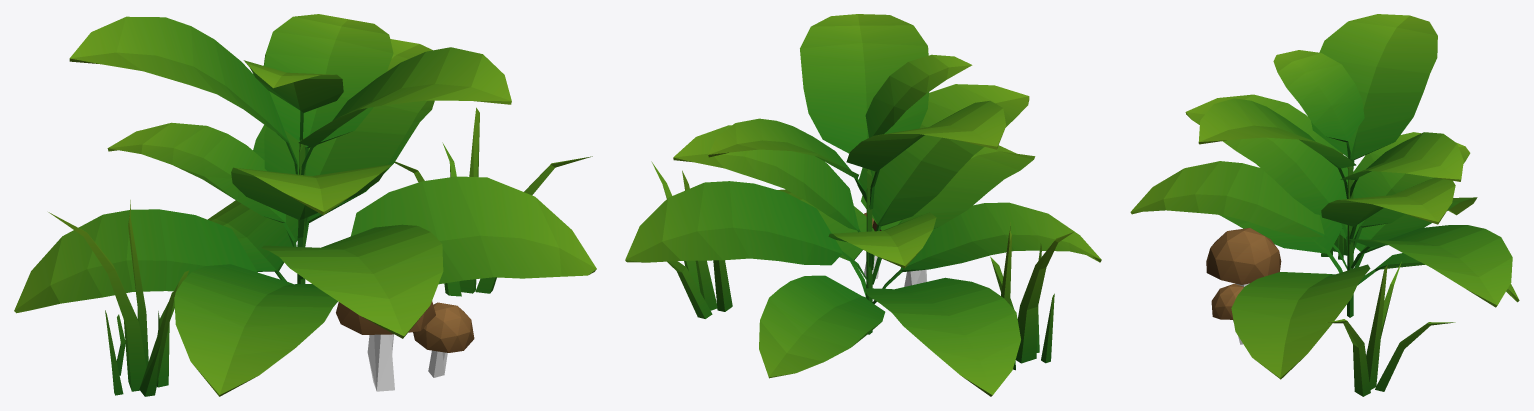
Rendered from Plant_04.fbx.
3 renders of one model, left to right at view 1: azimuth 30°, elevation 25°; view 2: azimuth 150°, elevation 25°; view 3: azimuth 270°, elevation 25°, orthographic. The views are drawn at different scales.
Visible parts, largest first — view 1: Plant_04; view 2: Plant_04; view 3: Plant_04.
Part boxes in pixels (bbox=[...]): Plant_04: bbox=[14, 14, 596, 396]; Plant_04: bbox=[625, 14, 1101, 396]; Plant_04: bbox=[1130, 14, 1519, 396].
Bounding box in the file's own units: 97.08 × 56.01 × 80.91.
